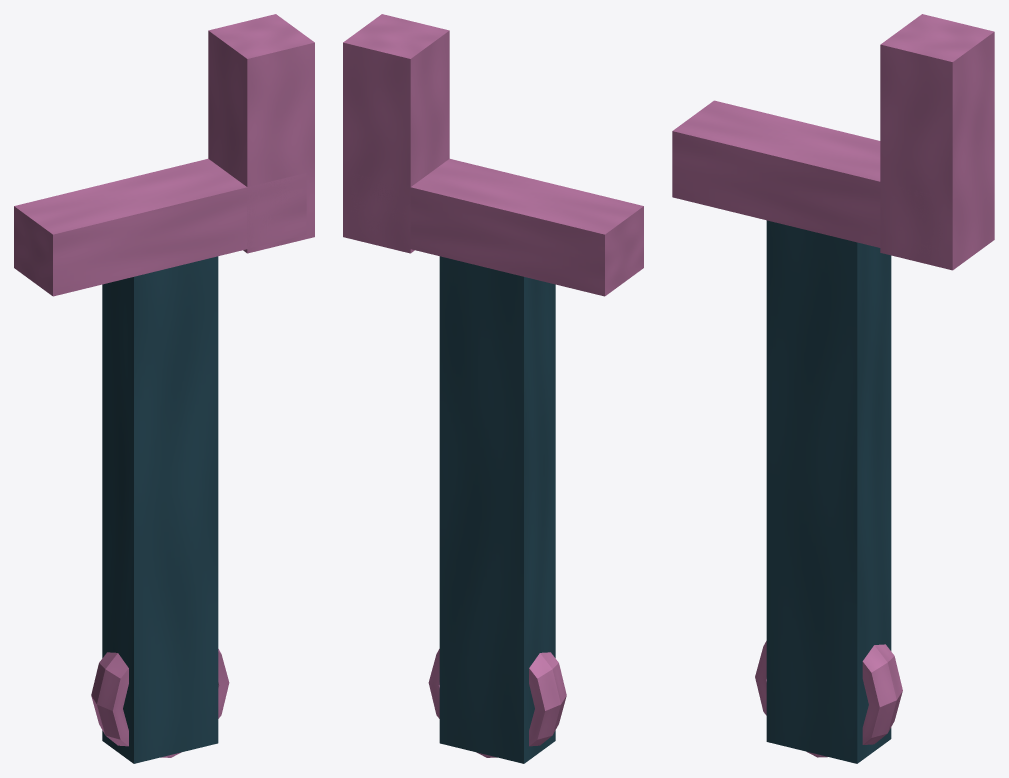
File: atlas100-s069-a05.lod1.glb
3 renders of one model, left to right at view 1: azimuth 30°, elevation 25°; view 2: azimuth 150°, elevation 25°; view 3: azimuth 330°, elevation 25°, orthographic. The views are drawn at different scales.
Visible parts, largest first — view 1: atlas100-s069-a05:part-000, atlas100-s069-a05:part-003, atlas100-s069-a05:part-002, atlas100-s069-a05:part-004; view 2: atlas100-s069-a05:part-000, atlas100-s069-a05:part-003, atlas100-s069-a05:part-002, atlas100-s069-a05:part-004; view 3: atlas100-s069-a05:part-000, atlas100-s069-a05:part-002, atlas100-s069-a05:part-003, atlas100-s069-a05:part-004.
Part boxes in pixels (x1,y1,x2,y2): atlas100-s069-a05:part-000: [102, 256, 218, 763]; atlas100-s069-a05:part-003: [14, 158, 306, 296]; atlas100-s069-a05:part-002: [208, 14, 314, 253]; atlas100-s069-a05:part-004: [91, 649, 229, 757]; atlas100-s069-a05:part-000: [439, 256, 555, 763]; atlas100-s069-a05:part-003: [351, 158, 643, 296]; atlas100-s069-a05:part-002: [343, 14, 449, 253]; atlas100-s069-a05:part-004: [428, 649, 566, 757]; atlas100-s069-a05:part-000: [766, 220, 891, 763]; atlas100-s069-a05:part-002: [880, 14, 994, 270]; atlas100-s069-a05:part-003: [672, 100, 943, 260]; atlas100-s069-a05:part-004: [755, 641, 902, 757].
Size of the model in its own units: 0.3385 by 0.8572 by 0.0874.
2 materials, 2 textured.
